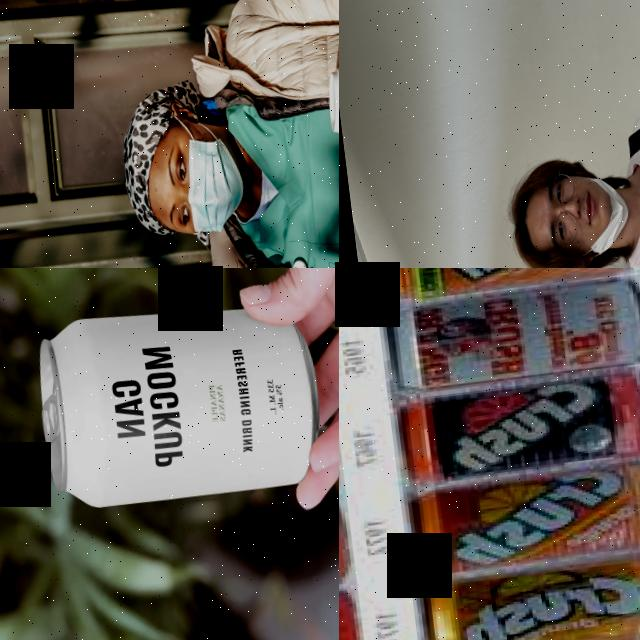can: (31, 288, 330, 515), (382, 273, 640, 394), (391, 367, 640, 488), (405, 461, 640, 582), (417, 545, 640, 640), (369, 268, 640, 307)
cup: (320, 53, 339, 139)
